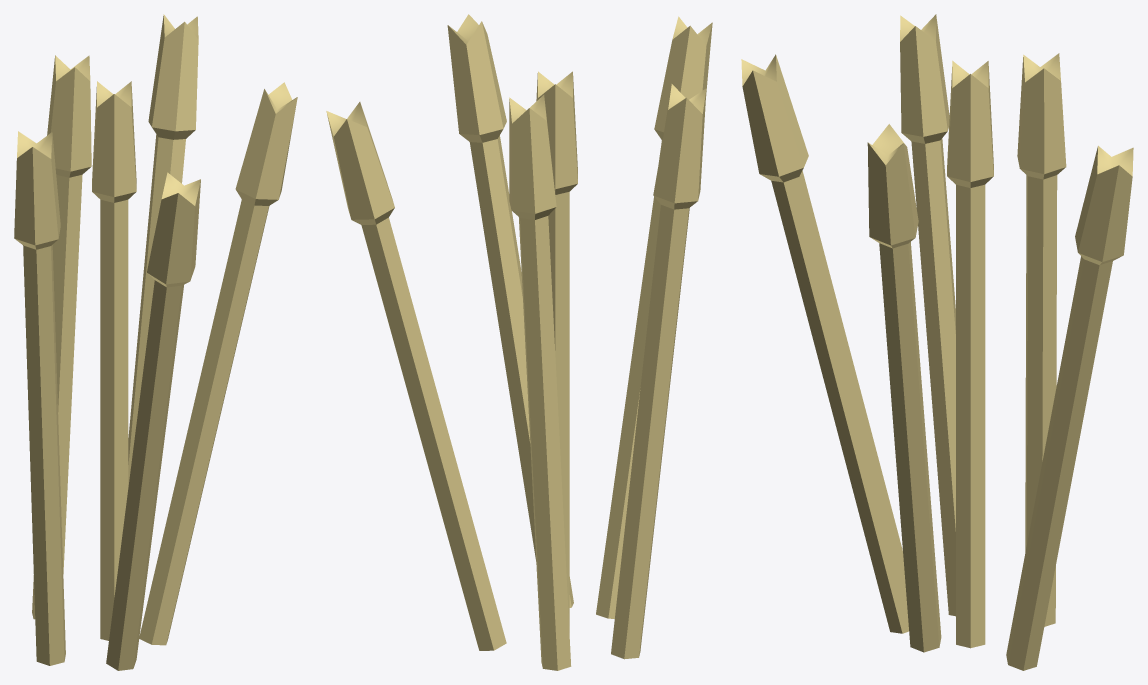
The model's file is Wheat.fbx.
3 renders of one model, left to right at view 1: azimuth 30°, elevation 25°; view 2: azimuth 150°, elevation 25°; view 3: azimuth 270°, elevation 25°, orthographic. The views are drawn at different scales.
Visible parts, largest first — view 1: pCylinder13; view 2: pCylinder13; view 3: pCylinder13.
Boxes of the visible parts, <box> form: pCylinder13: <box>14,14,297,670</box>; pCylinder13: <box>326,14,712,670</box>; pCylinder13: <box>741,14,1133,670</box>.
Bounding box in the file's own units: 0.9848 × 1.91 × 1.16.
